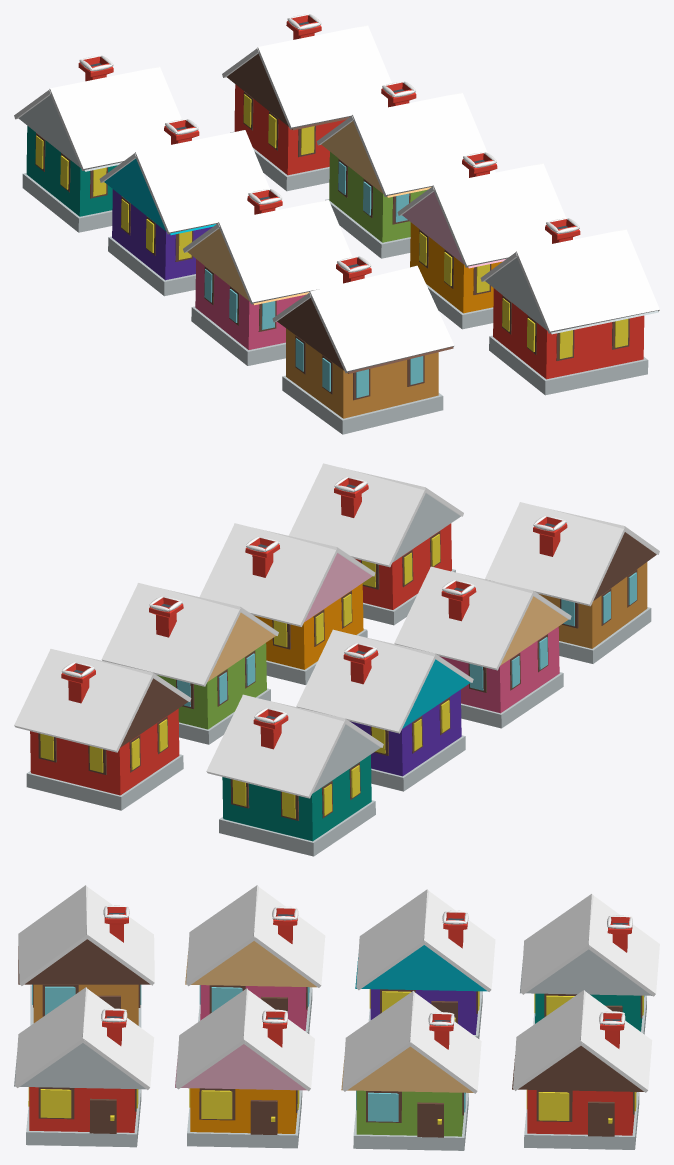
Rendered from Snowy Houses.glb.
3 renders of one model, top to bottom at view 1: azimuth 30°, elevation 25°; view 2: azimuth 150°, elevation 25°; view 3: azimuth 270°, elevation 25°, orthographic. The views are drawn at different scales.
Visible parts, largest first — view 1: group191968412, group248086047, group2007112116, group176018368, group1950562927, group2104299408, group1165979085, group351250068; view 2: group176018368, group2104299408, group2007112116, group1950562927, group191968412, group1165979085, group351250068, group248086047; view 3: group248086047, group1165979085, group176018368, group351250068, group2007112116, group1950562927, group191968412, group2104299408.
Boxes of the visible parts, <box> form: group191968412: <box>272,256,454,434</box>; group248086047: <box>480,218,659,395</box>; group2007112116: <box>183,189,352,365</box>; group176018368: <box>222,14,391,191</box>; group1950562927: <box>99,119,278,296</box>; group2104299408: <box>14,55,181,232</box>; group1165979085: <box>316,81,495,258</box>; group351250068: <box>397,152,574,329</box>; group176018368: <box>14,649,191,810</box>; group2104299408: <box>206,694,383,856</box>; group2007112116: <box>394,566,571,728</box>; group1950562927: <box>296,629,473,791</box>; group191968412: <box>485,502,659,663</box>; group1165979085: <box>101,583,278,744</box>; group351250068: <box>199,523,375,684</box>; group248086047: <box>288,463,463,625</box>; group248086047: <box>14,987,154,1147</box>; group1165979085: <box>341,991,481,1150</box>; group176018368: <box>512,990,652,1149</box>; group351250068: <box>175,988,314,1148</box>; group2007112116: <box>185,885,325,1033</box>; group1950562927: <box>355,889,495,1038</box>; group191968412: <box>18,885,154,1027</box>; group2104299408: <box>520,894,659,1034</box>.
Size of the model in its own units: 1.71 by 0.6749 by 3.14.
